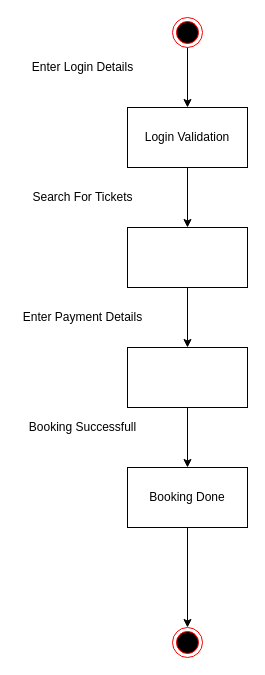
The diagram is 265 pixels wide and 675 high, and some of its shapes have lost their labels. The centre of each missing label's shape, as x and y in pixels:
"Confirming Tickets" belongs at (x=187, y=377).
"Ticket Availability" belongs at (x=187, y=257).
